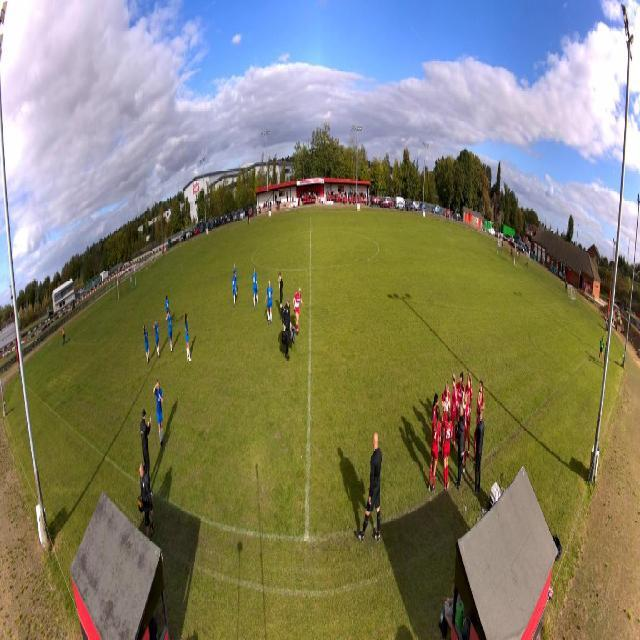ball: (269, 313, 271, 321)
player: (429, 404, 442, 490), (443, 405, 453, 492), (154, 378, 165, 450), (473, 392, 482, 468), (461, 387, 469, 472), (466, 370, 473, 462), (293, 287, 304, 337), (452, 374, 458, 450), (264, 277, 273, 324), (456, 370, 465, 414), (184, 312, 191, 362), (142, 325, 150, 366), (476, 380, 486, 411), (166, 309, 173, 353), (153, 317, 160, 361), (278, 270, 284, 319), (442, 381, 451, 413), (252, 268, 258, 309), (433, 392, 440, 422), (233, 260, 237, 299), (232, 270, 236, 307), (165, 294, 170, 323), (130, 275, 134, 292)
